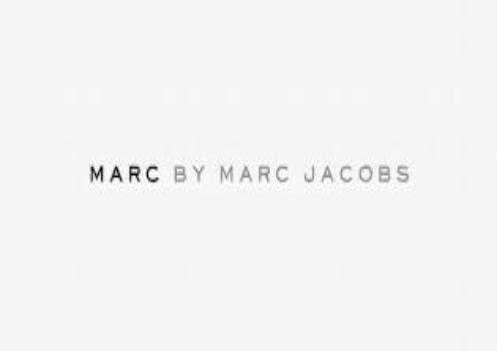MARC-JACOBS: (76, 145, 425, 197)
